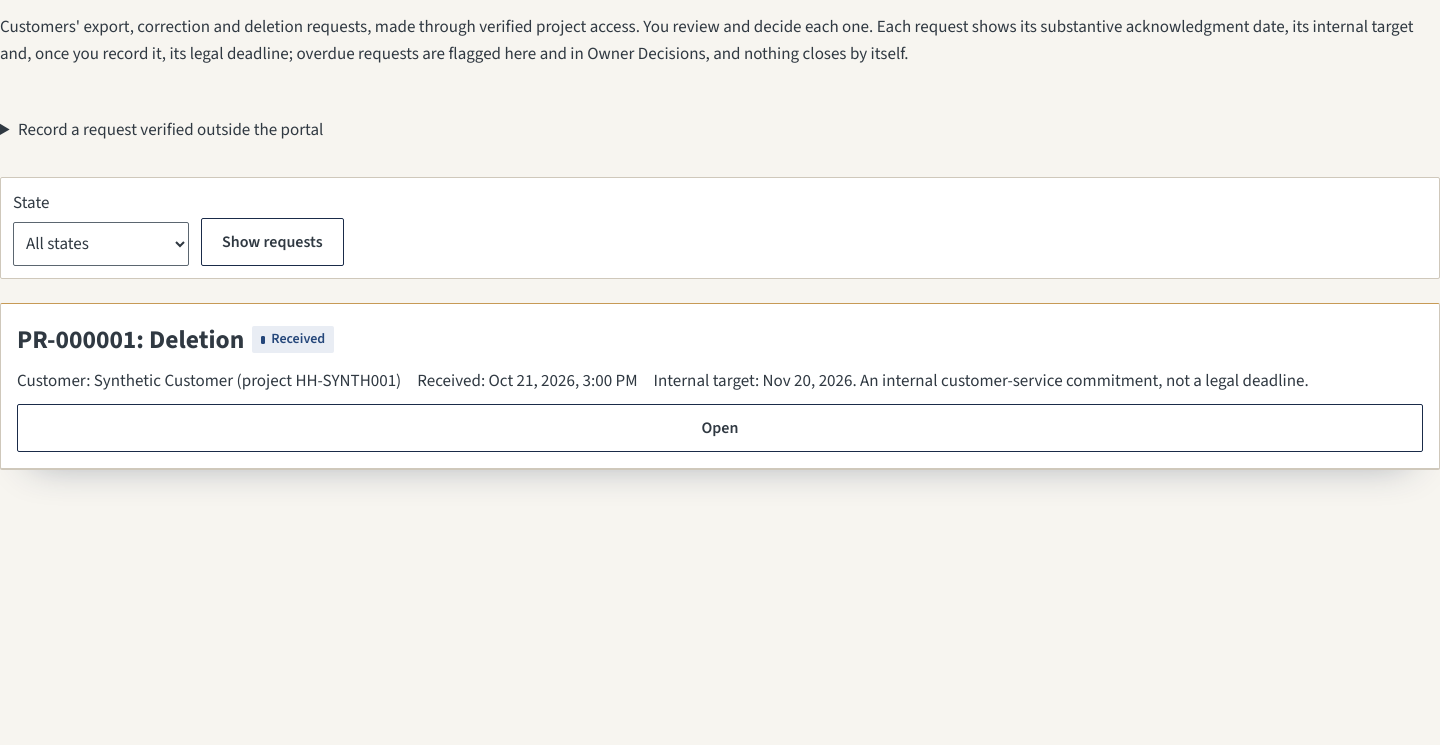
Scenario: privacy requests screen (TSK-0100, HH-PRIV-03) › [HH-PRIV-03] a received request is reviewed first; a refusal is labelled
Step 1. Click the button "Open" → (720, 428), box [17, 404, 1423, 452]
(page scrolled)
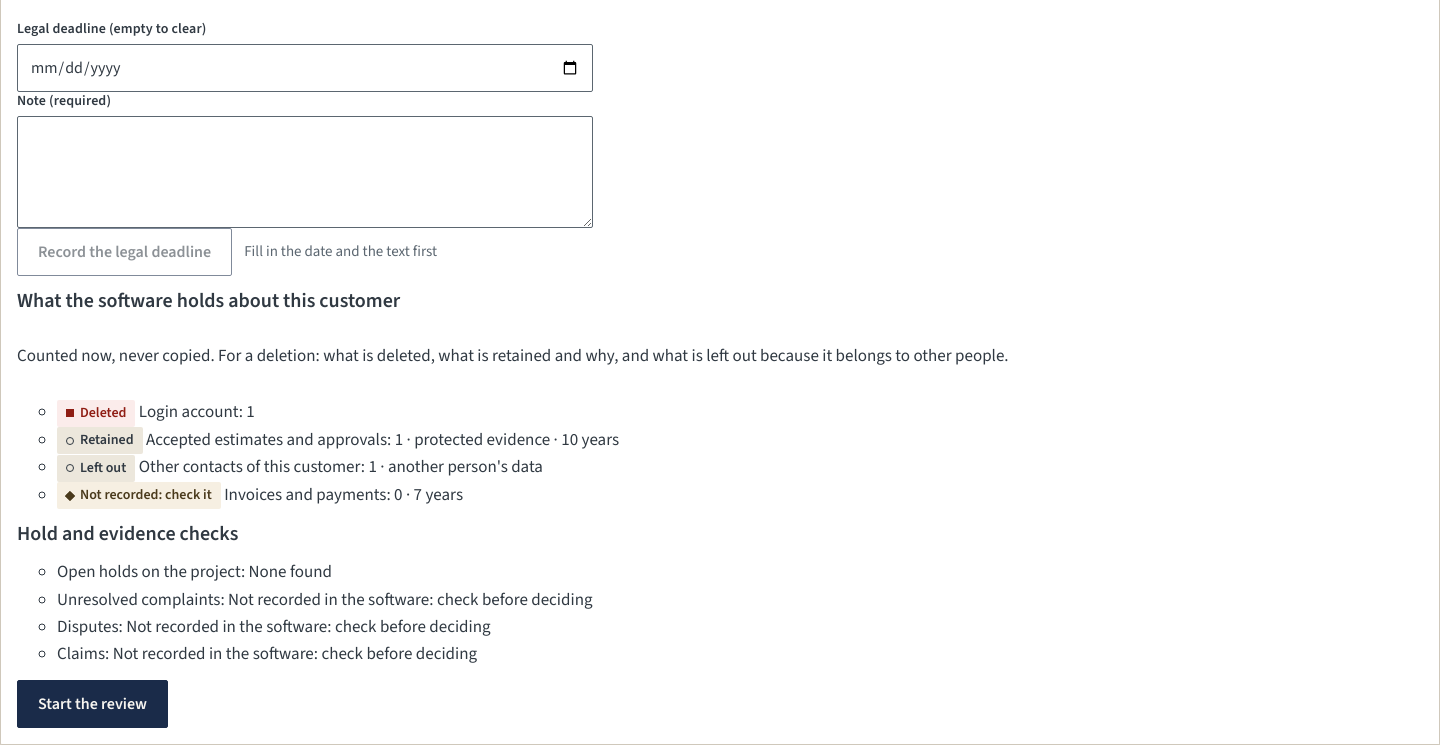
Step 2. Click the button "Start the review" → (93, 704), box [17, 680, 168, 728]
(page scrolled)
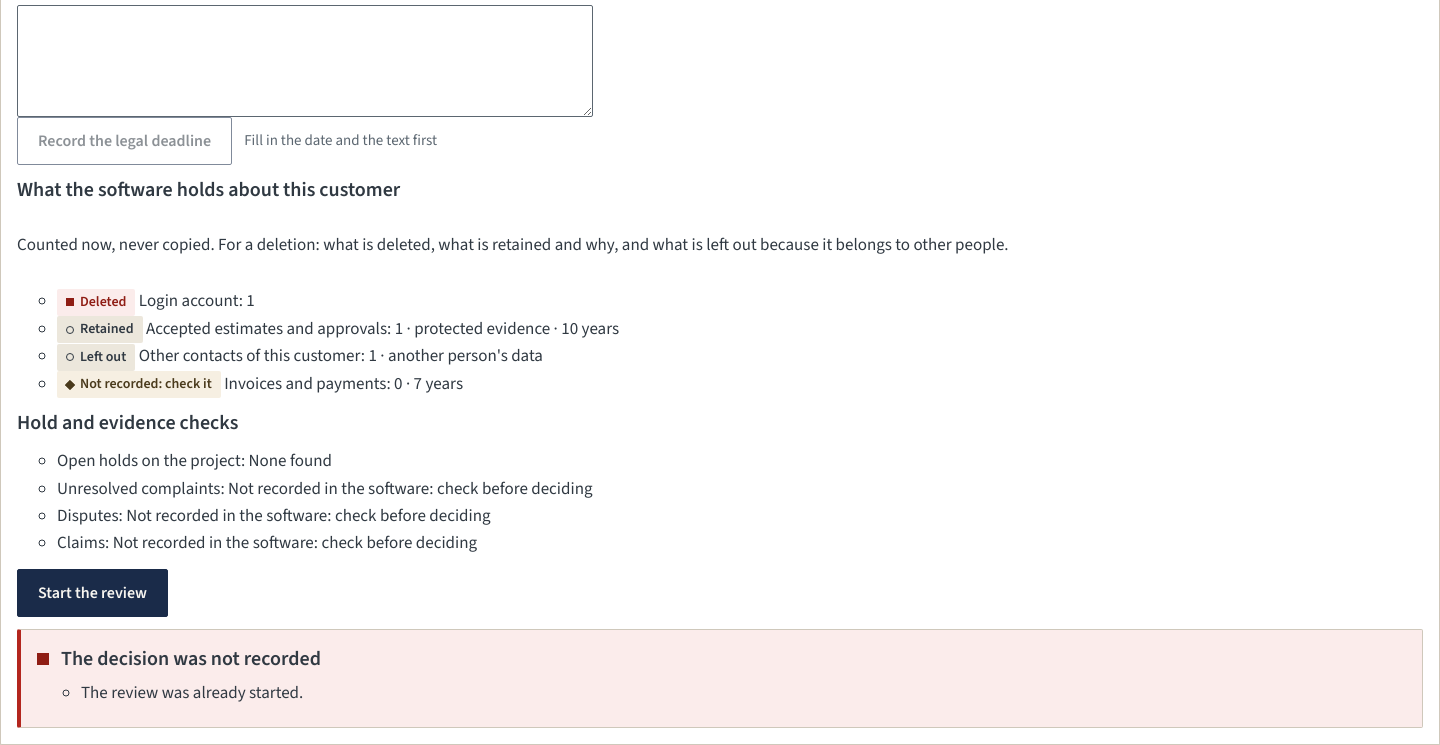
Expected: the list item "The review was already started." is shown, [81, 681, 303, 705]
